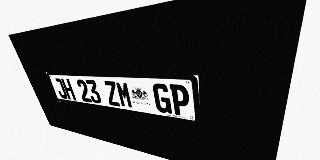2: (76, 79, 92, 102)
3: (85, 80, 102, 104)
G: (152, 83, 172, 114)
H: (61, 78, 76, 100)
J: (53, 78, 68, 99)
M: (115, 81, 134, 108)
P: (169, 84, 190, 117)
Z: (103, 81, 121, 107)
